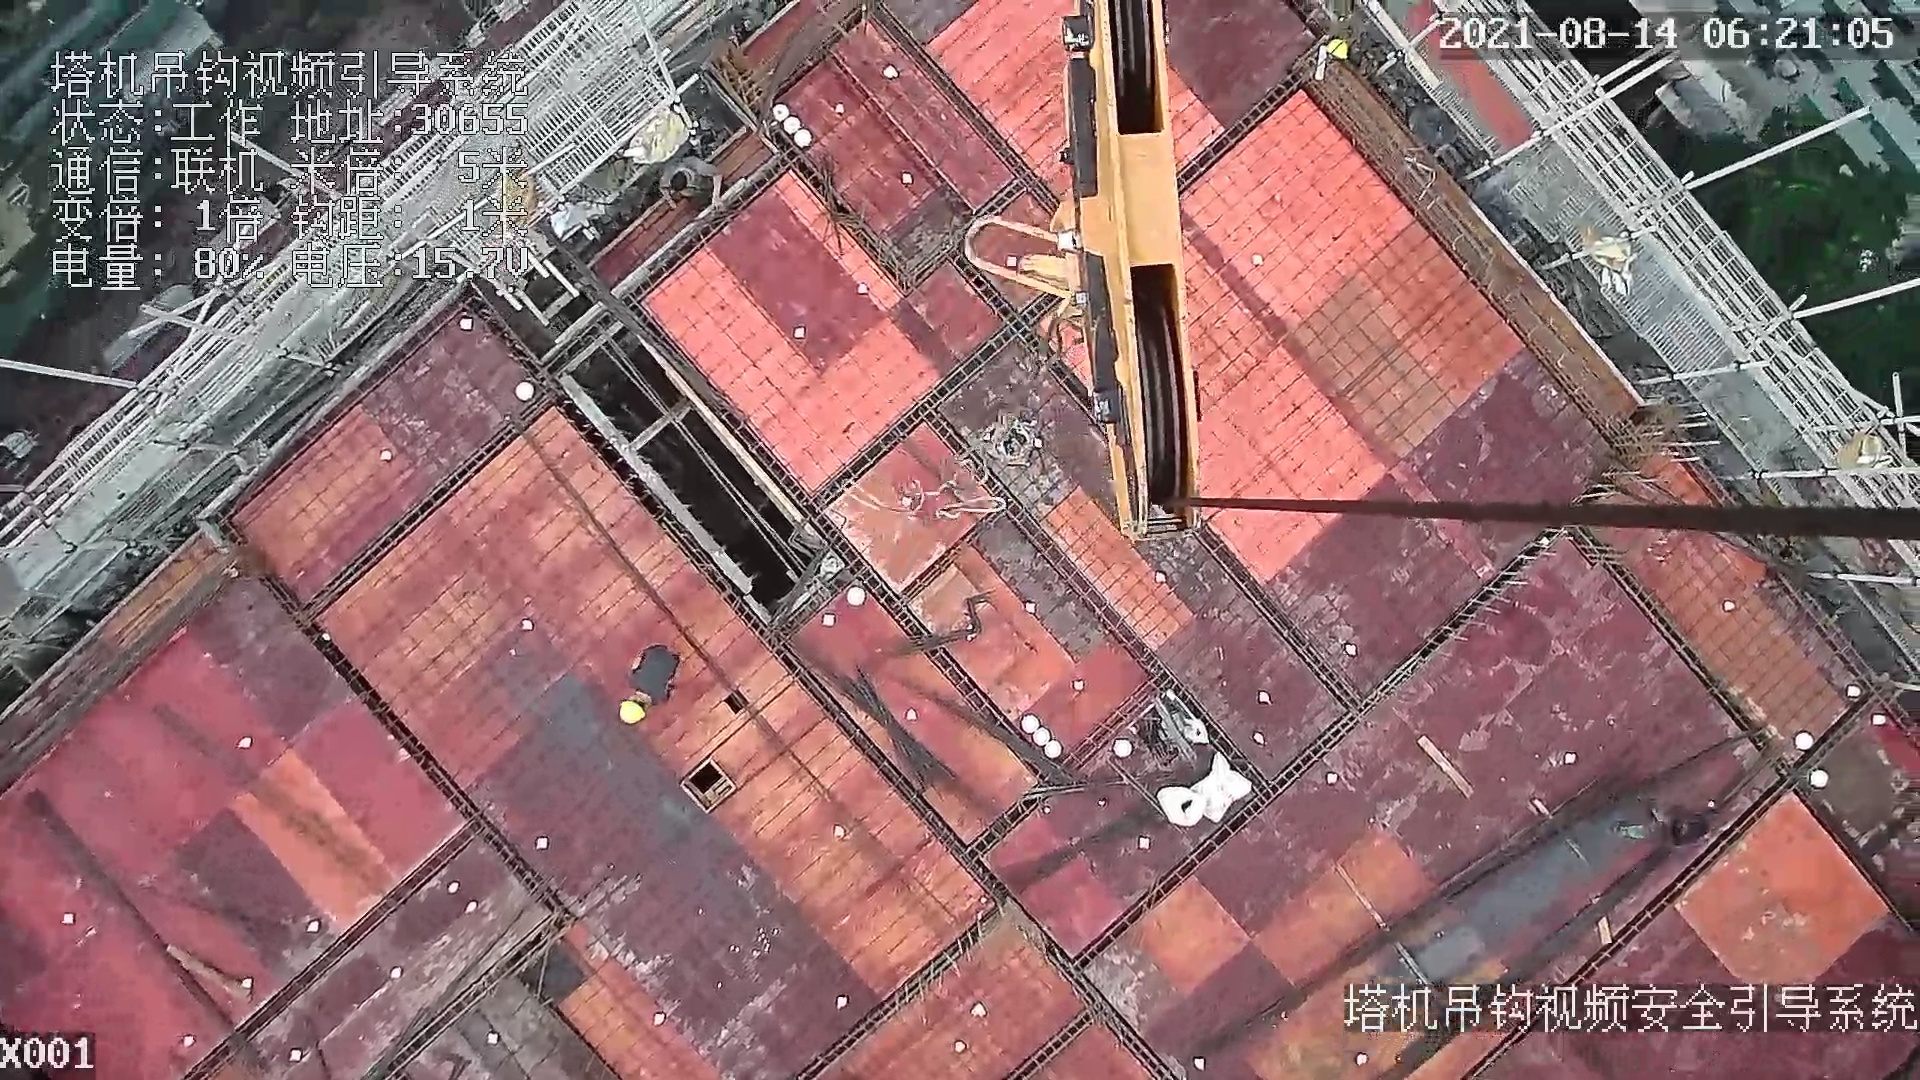helmet: (617, 698, 650, 724)
hook: (953, 1, 1212, 537)
person: (606, 637, 686, 728)
